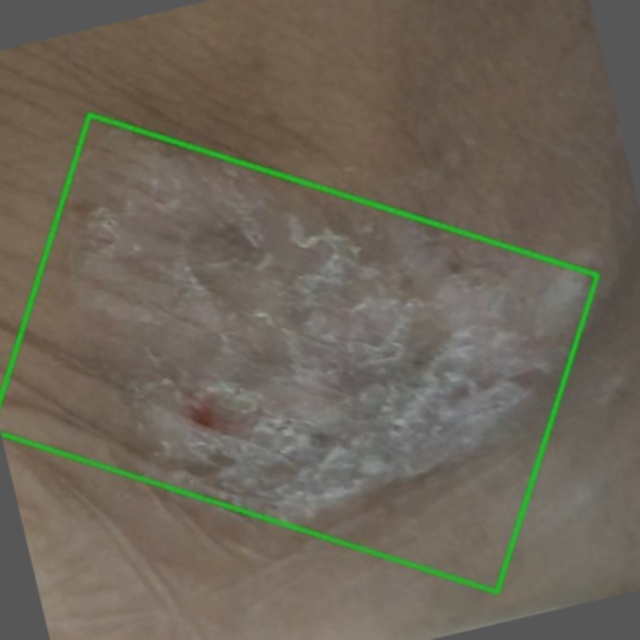Eczema: (0, 110, 601, 592)
